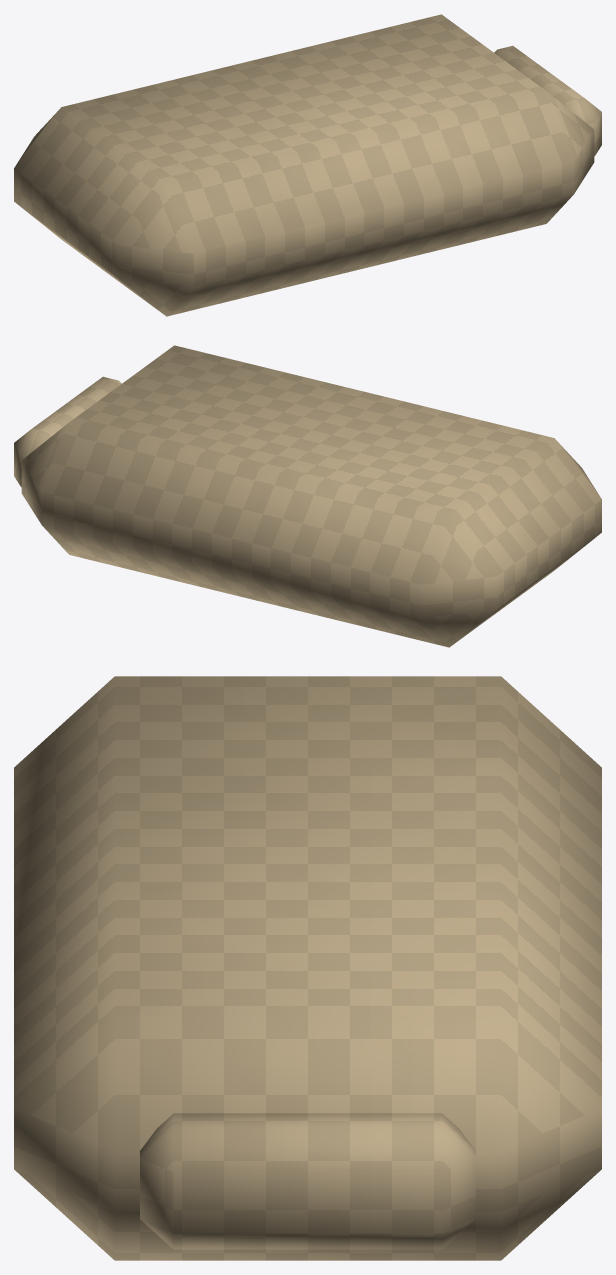
Rendered from saco_areia.glb.
3 views of the same model, one above another, from view 1: azimuth 30°, elevation 25°; view 2: azimuth 150°, elevation 25°; view 3: azimuth 270°, elevation 25° (orthographic). The views are drawn at different scales.
Visible parts, largest first — view 1: Inteiro; view 2: Inteiro; view 3: Inteiro.
Part boxes in pixels (x1,y1,x2,y2): Inteiro: (14, 14, 601, 316); Inteiro: (14, 345, 601, 647); Inteiro: (14, 676, 601, 1260).
Size of the model in its own units: 0.63 by 0.16 by 0.35.
Materials: 1 (1 with a texture image).
